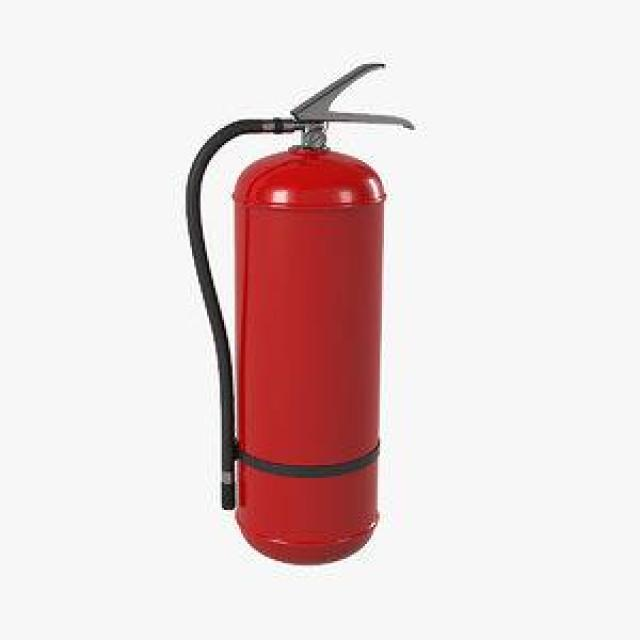fire_extinguisher: (178, 54, 419, 568)
